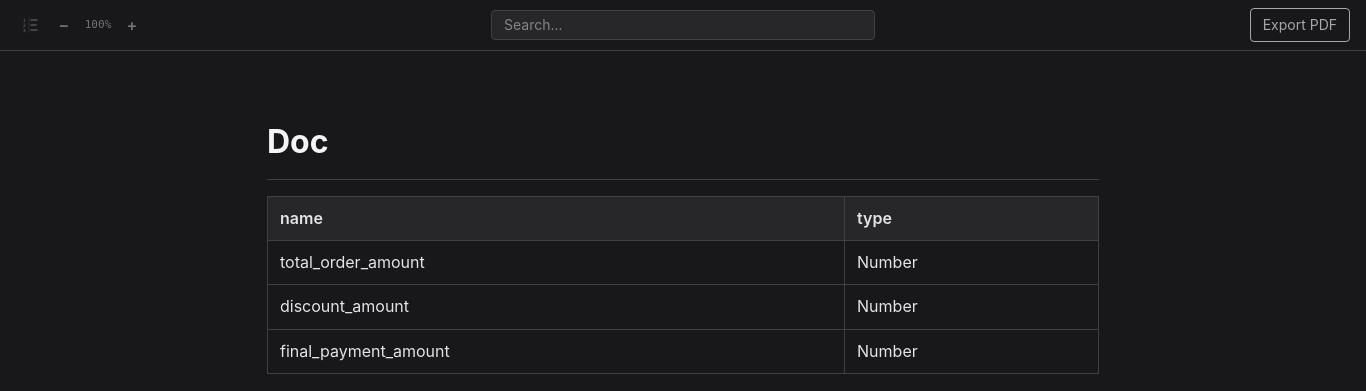
Test: MarkdownViewer search jump (#128) › jumps to the clicked row, not the first match, on adjacent table rows
Type "Number" into the field with placeholder "Search..." at coordinates (683, 25), box x1=491 y1=10 x2=875 y2=40
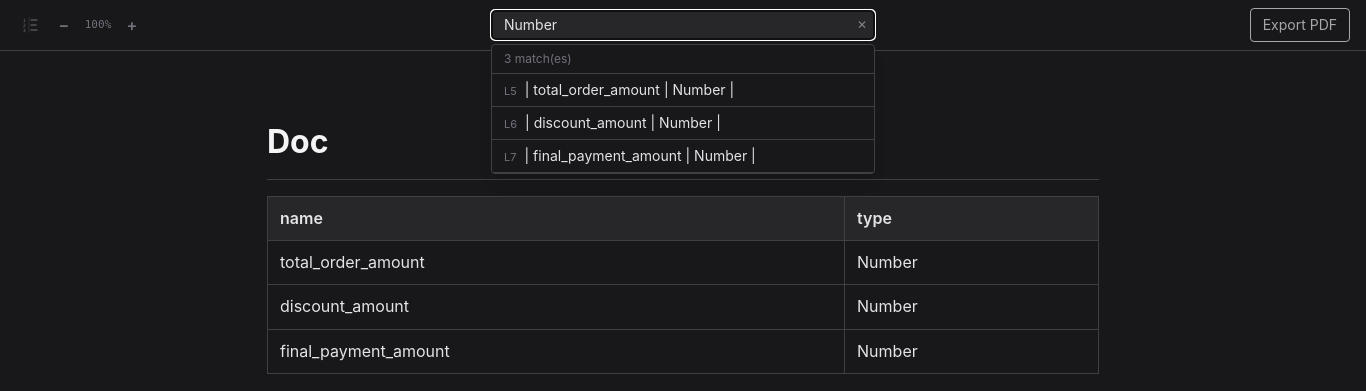
Check: the number of options is 3
Click the option "L6| discount_amount | Number |" at coordinates (683, 124), box x1=492 y1=107 x2=874 y2=140
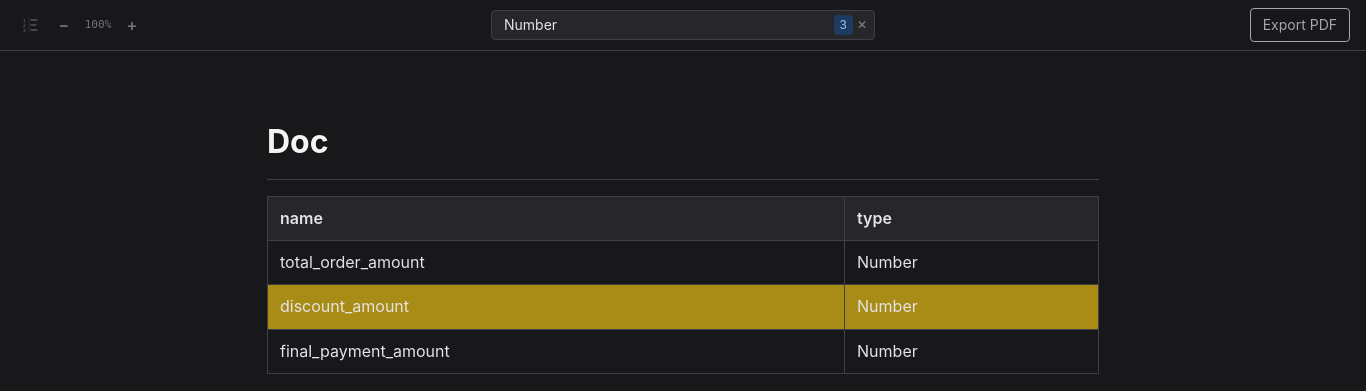
Check: the row with class "search-hit-flash" shows "discount_amount", box x1=280 y1=296 x2=409 y2=316
Check: the row with class "search-hit-flash" is shown, box x1=268 y1=285 x2=1098 y2=329
